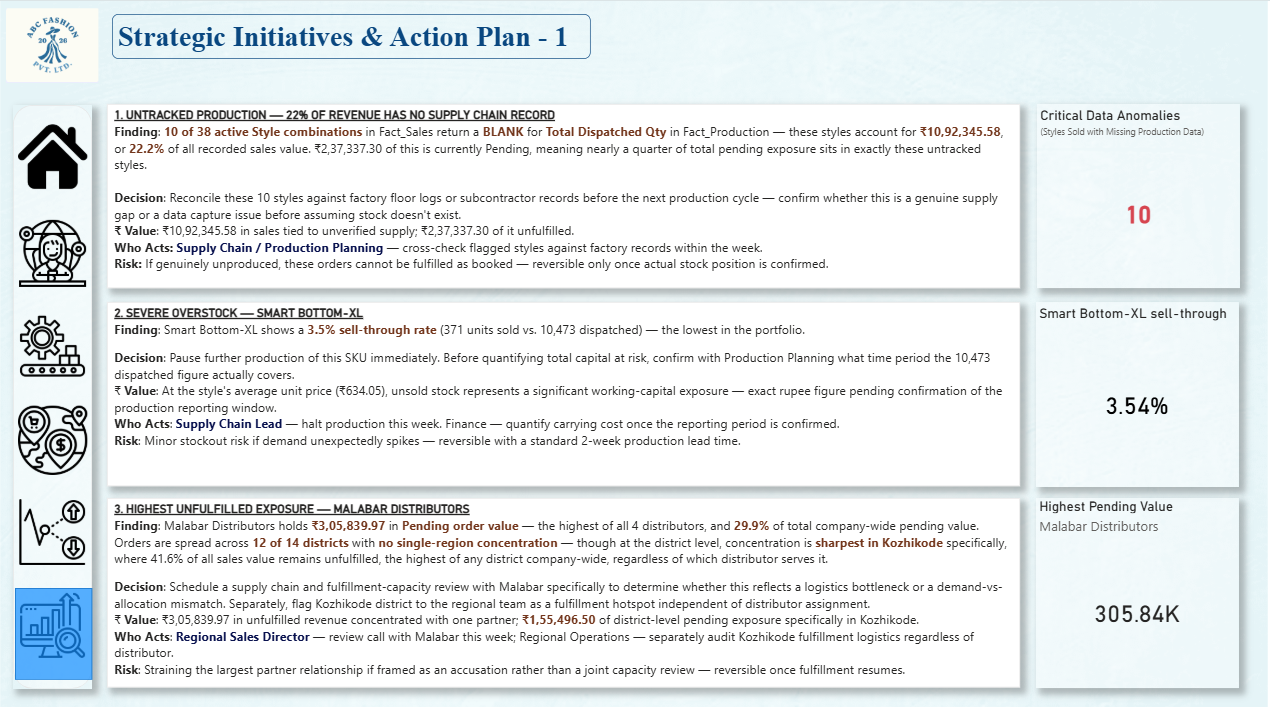

Layout of this report page (visuals, bound fields, positions):
{"tool":"powerbi","page":{"name":"Strategic Initiatives & Action Plan - 1","canvas":[1920,1080],"ordinal":5},"visuals":[{"type":"textbox","box":[169.9,19.5,724.6,68.4],"z":0},{"type":"image","box":[9.2,0,140.2,134.6],"z":1000},{"type":"shape","box":[19.9,156.9,119.5,884],"z":4000},{"type":"group","id":"g1","title":"Navigation img","box":[22.8,177.2,113.1,825.5],"z":5000},{"type":"image","box":[27,328.9,104.7,106.8],"z":5000,"group":"g1"},{"type":"image","box":[27,177.2,104.7,117.3],"z":6000,"group":"g1"},{"type":"shape","box":[22.4,889,117,139.5],"z":6000},{"type":"card","title":"Critical Data Anomalies","fields":{"Values":["Measures_Table.Orphan Styles Alert"]},"box":[1570.4,156.3,306.7,279.3],"z":7000},{"type":"image","box":[27,889.6,104.7,113.1],"z":7000,"group":"g1"},{"type":"textbox","title":"1. UNTRACKED PRODUCTION — 22% OF REVENUE HAS NO SUPPLY CHAIN RECORD","box":[162.1,156.3,1382.9,279.3],"z":8000},{"type":"textbox","title":"2. SEVERE OVERSTOCK — SMART BOTTOM-XL","box":[162.1,455.3,1382.9,279.3],"z":9000},{"type":"textbox","title":"3. HIGHEST UNFULFILLED EXPOSURE — MALABAR DISTRIBUTORS","box":[162.6,752.9,1383.2,287.3],"z":10000},{"type":"card","title":"Smart Bottom-XL sell-through","fields":{"Values":["Measures_Table.Sell-Through Rate"]},"box":[1569.5,455.2,306.7,280],"z":11000},{"type":"card","title":"Highest Pending Value ","fields":{"Values":["Measures_Table.Pending Value"]},"box":[1569.5,752.4,306.7,287.6],"z":12000},{"type":"image","box":[27,470.1,104.7,106.8],"z":19000,"group":"g1"},{"type":"image","box":[27,611.3,104.7,106.8],"z":20000,"group":"g1"},{"type":"image","box":[22.8,752.6,113.1,102.6],"z":21000,"group":"g1"}]}

Visuals, with their boxes in screenshot pixels (x1, y1, x2, y2), scaled from the page's 1920x1080 canvas onto the 1270x707 screenshot:
textbox: 112,13,592,58
image: 6,0,99,88
shape: 13,103,92,681
"Navigation img" group: 15,116,90,656
image: 18,215,87,285
image: 18,116,87,193
shape: 15,582,92,673
"Critical Data Anomalies" card: 1039,102,1242,285
image: 18,582,87,656
"1. UNTRACKED PRODUCTION — 22% OF REVENUE HAS NO SUPPLY CHAIN RECORD" textbox: 107,102,1022,285
"2. SEVERE OVERSTOCK — SMART BOTTOM-XL" textbox: 107,298,1022,481
"3. HIGHEST UNFULFILLED EXPOSURE — MALABAR DISTRIBUTORS" textbox: 108,493,1022,681
"Smart Bottom-XL sell-through" card: 1038,298,1241,481
"Highest Pending Value " card: 1038,493,1241,681
image: 18,308,87,378
image: 18,400,87,470
image: 15,493,90,560
